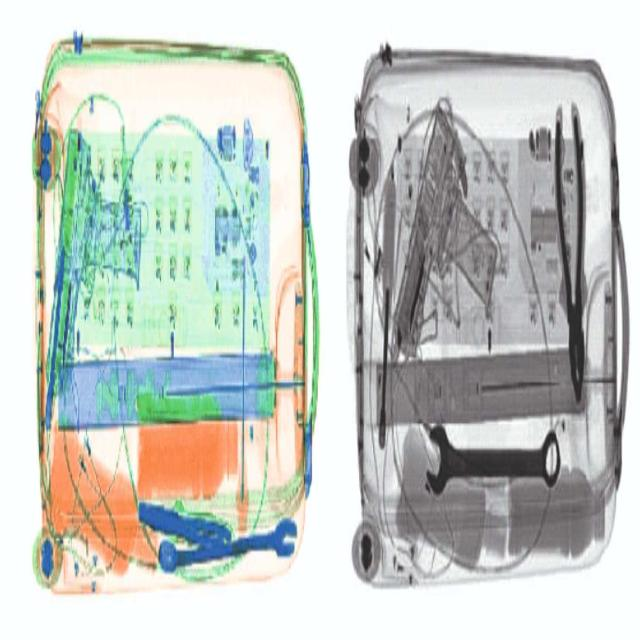knife: (378, 181, 397, 450)
pistol: (46, 127, 144, 428), (395, 102, 495, 358)
